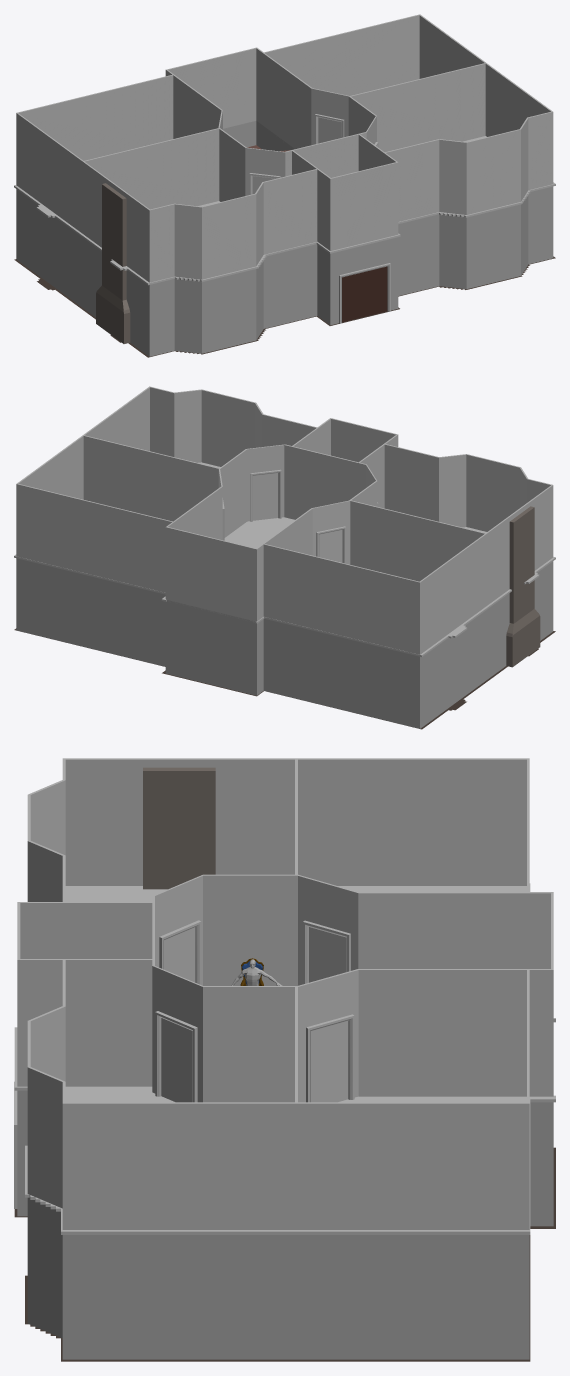
Rendered from new_room.fbx.
3 renders of one model, top to bottom at view 1: azimuth 30°, elevation 25°; view 2: azimuth 150°, elevation 25°; view 3: azimuth 270°, elevation 25°, orthographic. The views are drawn at different scales.
Parts seen in each view (by area): view 1: downstairs_walls_working1, polySurface49, polySurface50, polySurface35, polySurface42, polySurface51, polySurface31, polySurface36, polySurface57, polySurface44, polySurface39, polySurface46 (+23 smaller); view 2: downstairs_walls_working1, polySurface50, polySurface35, polySurface49, polySurface42, polySurface57, polySurface51, polySurface36, polySurface33, chimney, polySurface44, polySurface46 (+17 smaller); view 3: downstairs_walls_working1, polySurface36, polySurface49, polySurface56, polySurface58, polySurface30, polySurface34, polySurface53, floor_upper, chimney, door (×4), polySurface32 (+11 smaller).
Boxes of the visible parts, x1,y1,x2,y2 form: downstairs_walls_working1: (16, 120, 553, 356); polySurface49: (16, 112, 150, 282); polySurface50: (18, 74, 173, 160); polySurface35: (264, 14, 419, 95); polySurface42: (350, 63, 485, 151); polySurface51: (84, 128, 219, 209); polySurface31: (329, 162, 398, 250); polySurface36: (419, 14, 553, 183); polySurface57: (165, 47, 257, 128); polySurface44: (262, 169, 317, 254); polySurface39: (466, 129, 520, 214); polySurface46: (202, 194, 256, 279); downstairs_walls_working1: (16, 558, 553, 728); polySurface50: (263, 544, 418, 654); polySurface35: (17, 484, 172, 592); polySurface49: (418, 484, 553, 654); polySurface42: (83, 435, 218, 521); polySurface57: (165, 526, 257, 622); polySurface51: (350, 500, 485, 581); polySurface36: (16, 386, 149, 556); polySurface33: (284, 444, 366, 519); chimney: (506, 506, 540, 667); polySurface44: (384, 444, 439, 521); polySurface46: (466, 454, 520, 531); downstairs_walls_working1: (17, 1090, 553, 1359); polySurface36: (62, 1102, 529, 1229); polySurface49: (63, 758, 529, 885); polySurface56: (358, 969, 550, 1096); polySurface58: (358, 892, 550, 968); polySurface30: (20, 959, 152, 1086); polySurface34: (203, 986, 297, 1102); polySurface53: (203, 874, 297, 985); floor_upper: (14, 883, 555, 1234); chimney: (143, 767, 215, 889); door (×4): (161, 927, 348, 1102); polySurface32: (20, 902, 152, 958).
Bounding box in the file's own units: 30.4 × 10.29 × 19.71.
